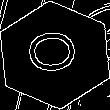O_E: (25, 31, 85, 79)
